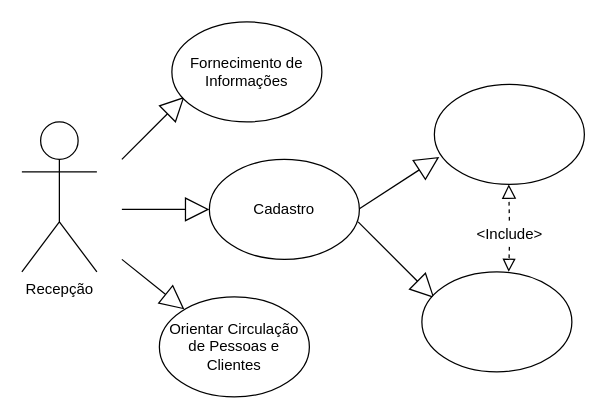
The diagram is 606 pixels wide and 419 high, and some of its shapes have lost their labels. The shapes that lost their labels are listed below. From the top down, each one's box as (x1, y1, x2, y2) in pixels, then its label:
(433, 83, 584, 184): Cadastrar Cliente
(421, 271, 572, 372): Cadastrar Agendamento
